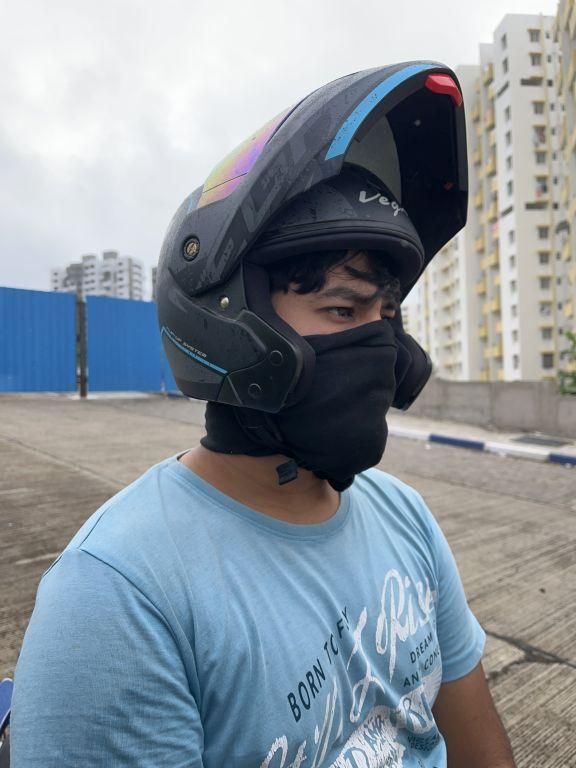helmet: (150, 52, 477, 483)
